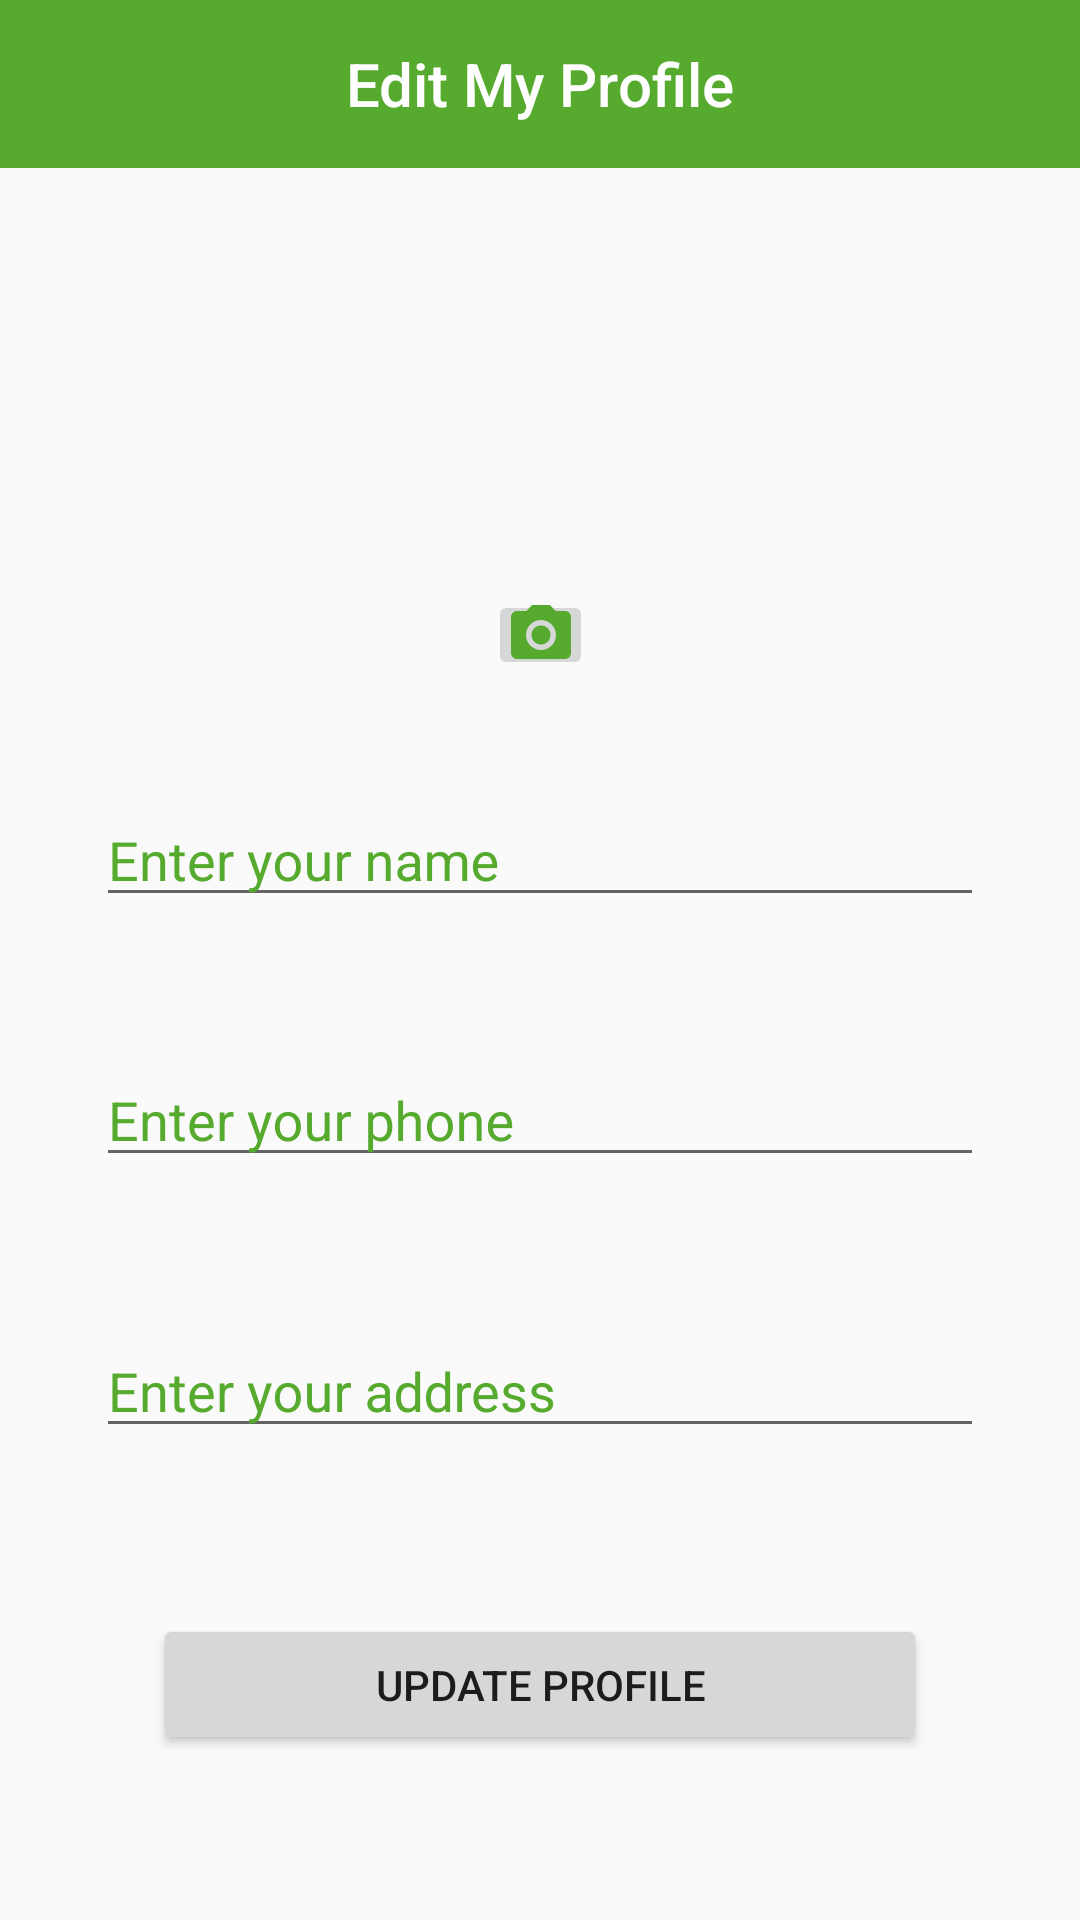

Icons on this 1080 × 1920 Android screen, each with the point to tap as [x,y]:
camera: [540,633]
